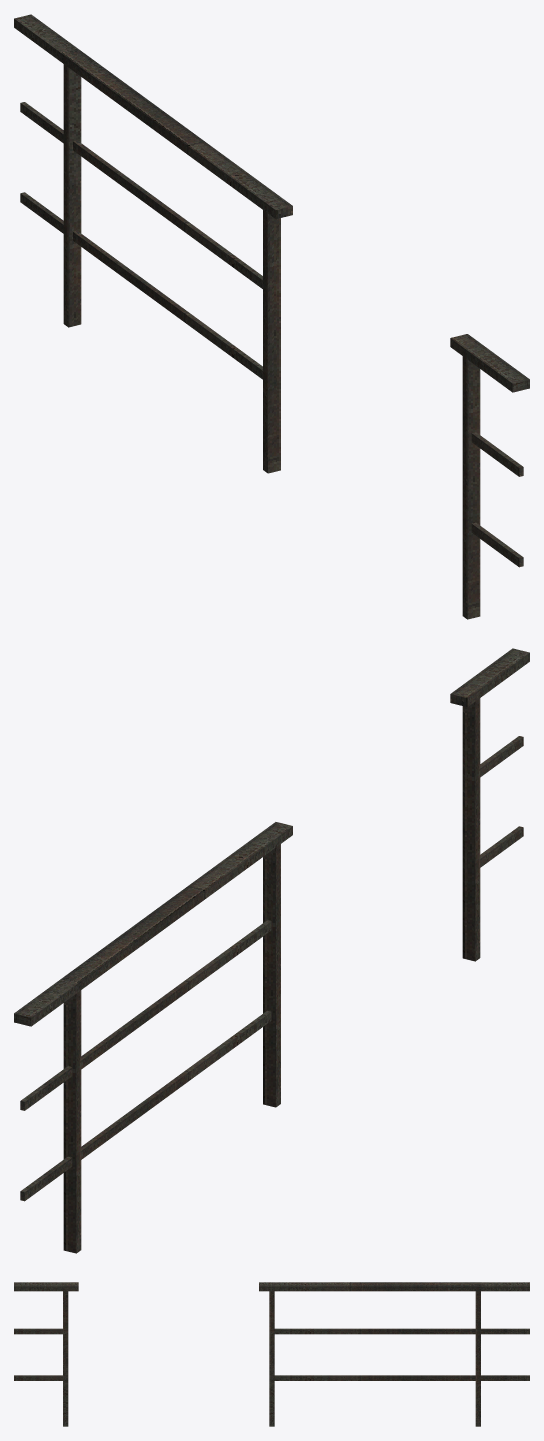
Rendered from platform_b_handrail_1_1.glb.
The picture shows the model from 3 angles, top to bottom: view 1: azimuth 30°, elevation 25°; view 2: azimuth 150°, elevation 25°; view 3: azimuth 270°, elevation 25°; orthographic projection. The views are drawn at different scales.
Parts seen in each view (by area): view 1: platform_b_handrail_1_1; view 2: platform_b_handrail_1_1; view 3: platform_b_handrail_1_1.
Boxes of the visible parts, <box> form: platform_b_handrail_1_1: <box>14,14,529,619</box>; platform_b_handrail_1_1: <box>14,648,529,1253</box>; platform_b_handrail_1_1: <box>14,1282,529,1426</box>.
Bounding box in the file's own units: 0.08 × 1.2 × 4.
1 material, 1 textured.
